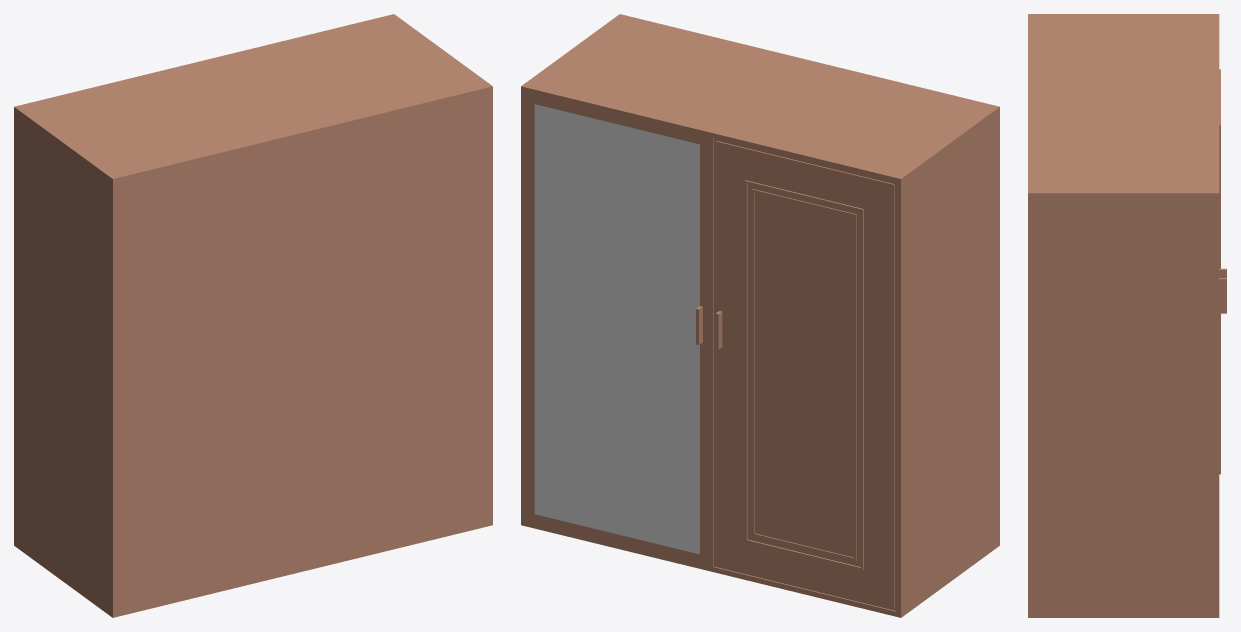
File: ArmoireChambre.fbx
3 views of the same model, side by side, from view 1: azimuth 30°, elevation 25°; view 2: azimuth 150°, elevation 25°; view 3: azimuth 270°, elevation 25° (orthographic). The views are drawn at different scales.
Parts seen in each view (by area): view 1: Cube.008; view 2: Cube.008; view 3: Cube.008.
Part boxes in pixels (x1,y1,x2,y2): Cube.008: (14,14,492,617); Cube.008: (521,14,999,617); Cube.008: (1028,14,1226,617).
Bounding box in the file's own units: 444 × 490 × 208.
